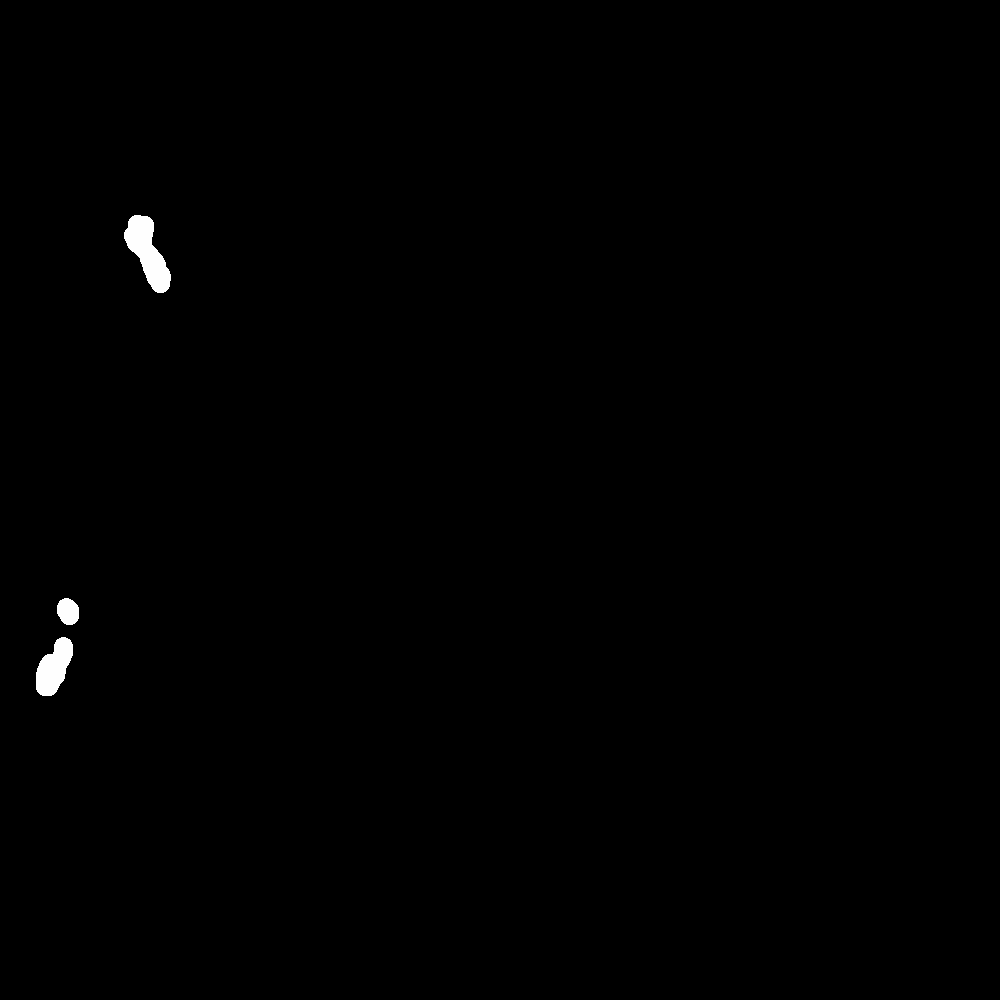illegal: (23, 447, 112, 725), (79, 140, 187, 303), (377, 196, 454, 297), (62, 1, 125, 42)
